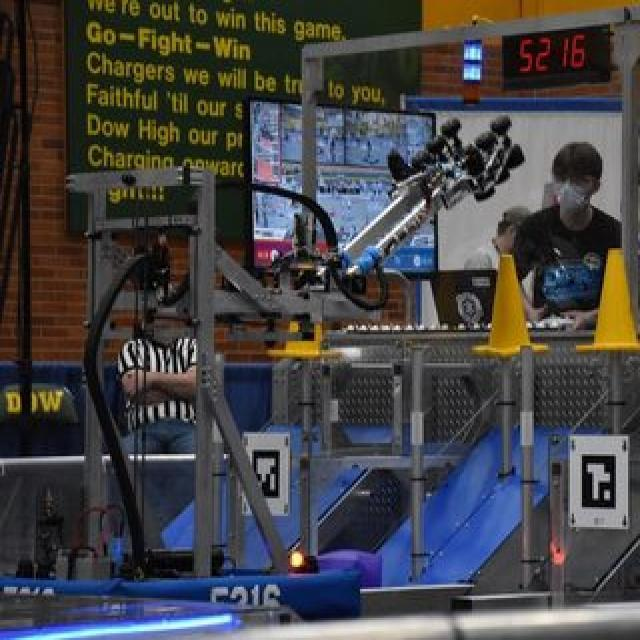robot: (6, 90, 515, 613)
